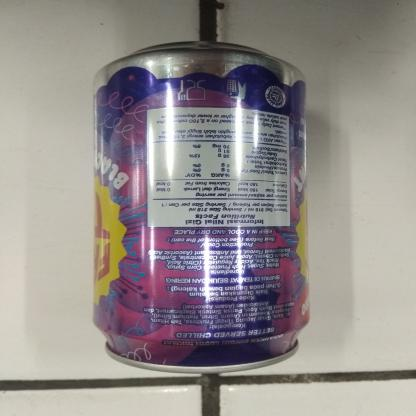bottle: (83, 39, 305, 368)
